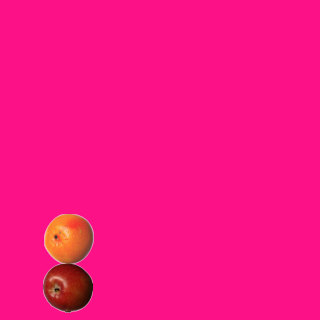Apple Braeburn: (42, 262, 92, 312)
Grapefruit Pink: (43, 213, 93, 263)
